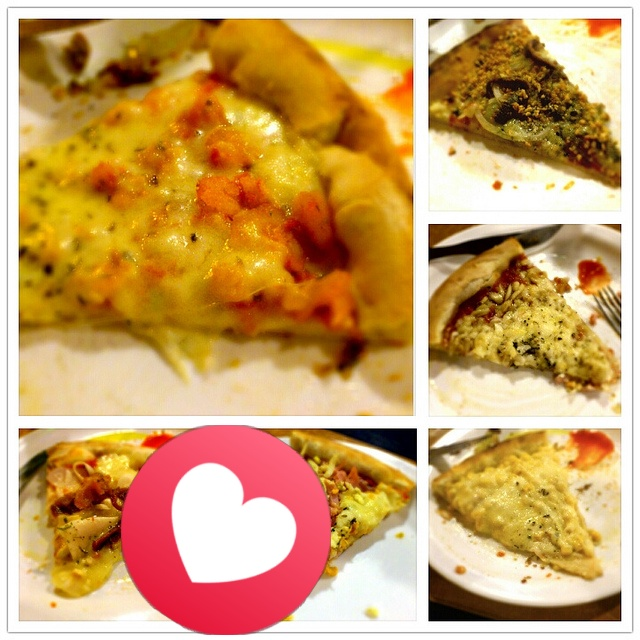love: (121, 425, 331, 635)
